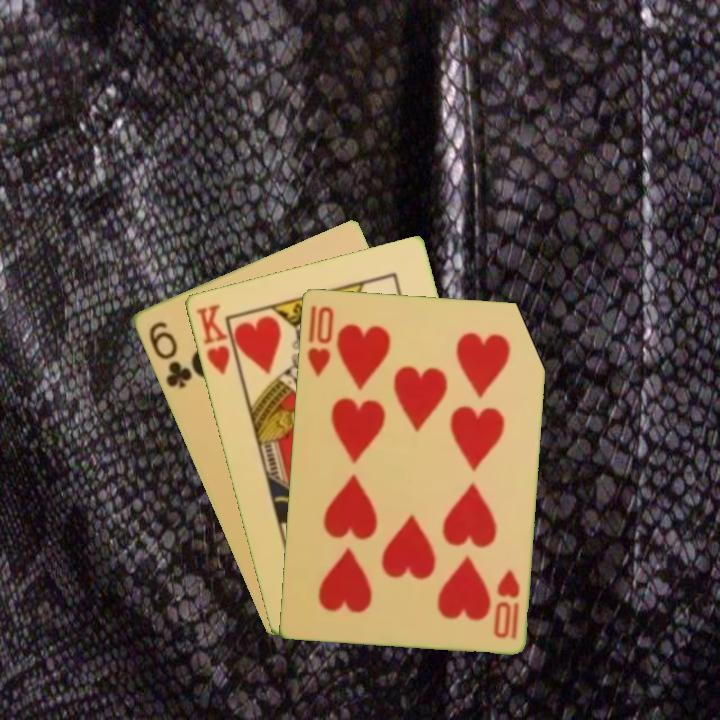10h: (303, 301, 336, 379), (490, 565, 522, 642)
6c: (144, 317, 195, 391)
Kh: (192, 300, 242, 379)
